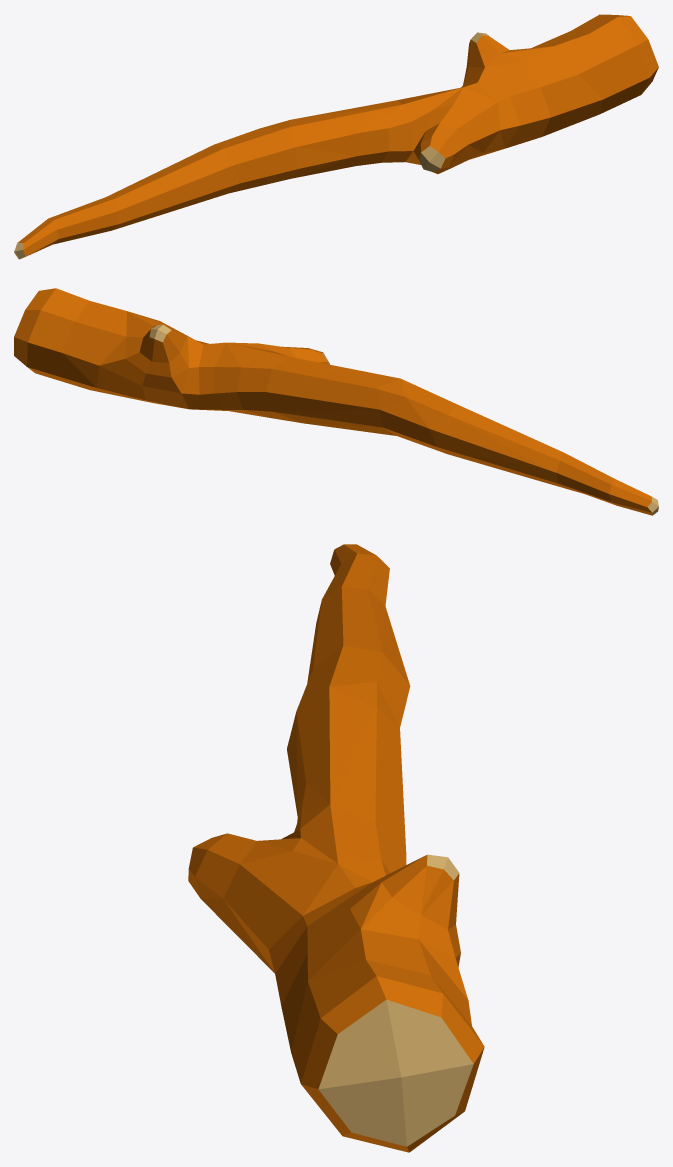
Rendered from Log05.fbx.
The picture shows the model from 3 angles, top to bottom: view 1: azimuth 30°, elevation 25°; view 2: azimuth 150°, elevation 25°; view 3: azimuth 270°, elevation 25°; orthographic projection. The views are drawn at different scales.
Visible parts, largest first — view 1: Plane; view 2: Plane; view 3: Plane.
Part boxes in pixels (x1=…): Plane: x1=14, y1=14, x2=658, y2=259; Plane: x1=14, y1=288, x2=658, y2=515; Plane: x1=188, y1=544, x2=484, y2=1152.
Size of the model in its own units: 226 by 33.55 by 46.62.
